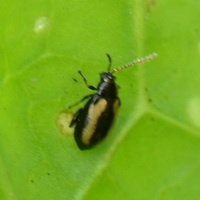insect: (58, 53, 157, 149)
